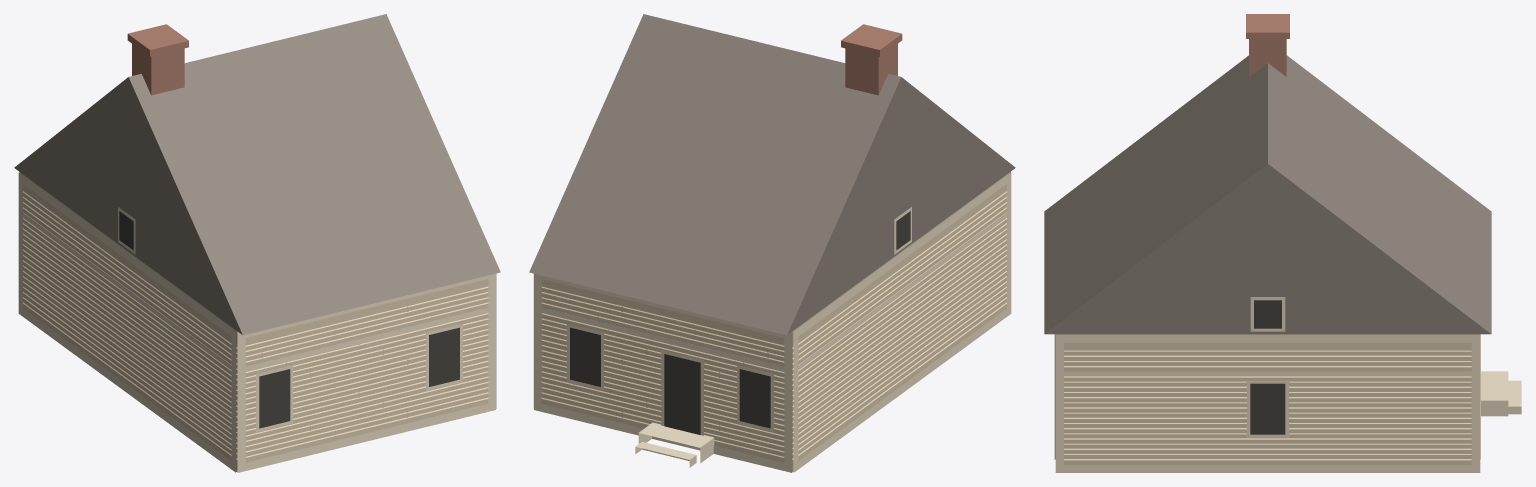
The model's file is recon_1835_blk_south_water_wells_d6_01__inferred_1835.glb.
3 renders of one model, left to right at view 1: azimuth 30°, elevation 25°; view 2: azimuth 150°, elevation 25°; view 3: azimuth 270°, elevation 25°, orthographic. The views are drawn at different scales.
Visible parts, largest first — view 1: recon_1835_blk_south_water_wells_d6_01__inferred_1835; view 2: recon_1835_blk_south_water_wells_d6_01__inferred_1835; view 3: recon_1835_blk_south_water_wells_d6_01__inferred_1835.
Boxes of the visible parts, box(x1,y1,x2,y2) form: recon_1835_blk_south_water_wells_d6_01__inferred_1835: box(14, 14, 500, 472); recon_1835_blk_south_water_wells_d6_01__inferred_1835: box(529, 14, 1015, 472); recon_1835_blk_south_water_wells_d6_01__inferred_1835: box(1044, 14, 1521, 472).
Bounding box in the file's own units: 6.58 × 8.37 × 10.63.
